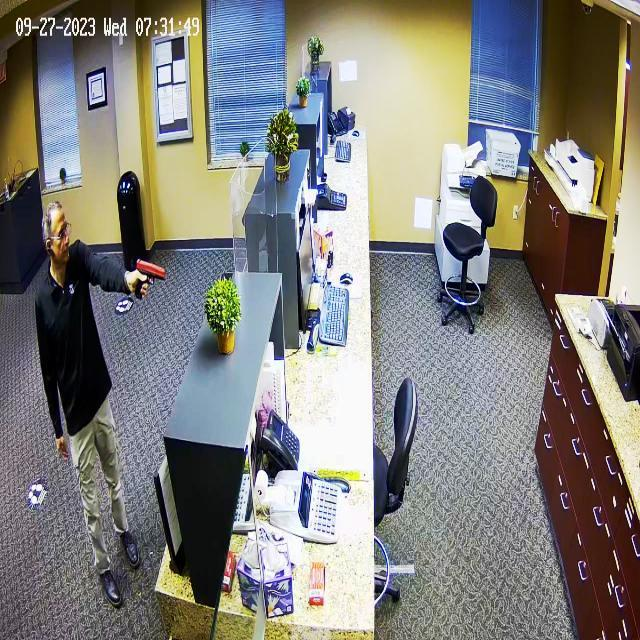Gun: (130, 253, 172, 305)
